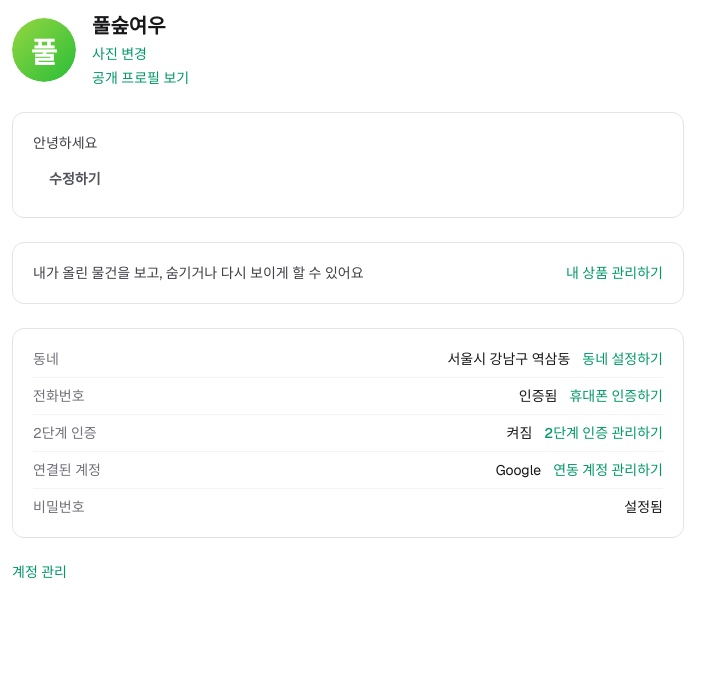
Test: MyPage — bio edit › edits and saves the bio via PATCH /api/profile/bio with the right body
Click the button "수정하기". click: (75, 179)
box: [33, 161, 116, 197]
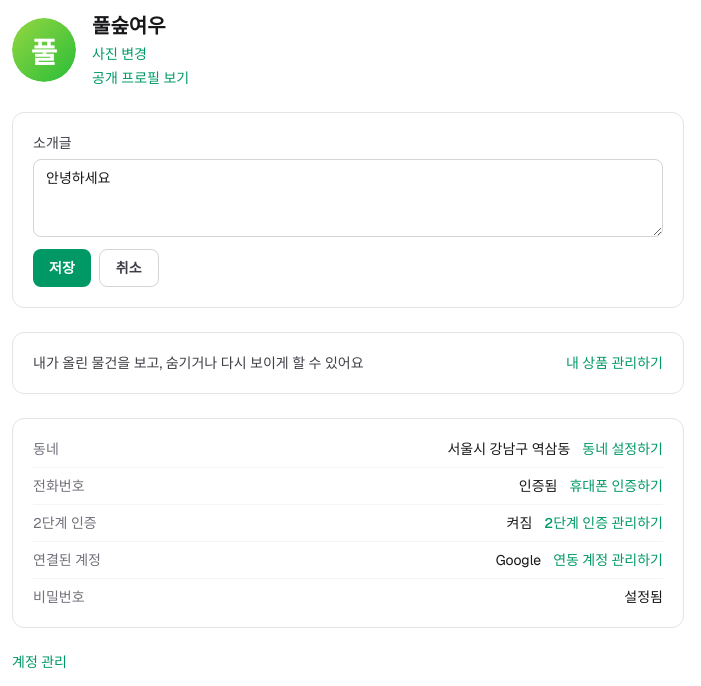
Replace the text in the text box labelled "소개글" with "새 소개글". click: (348, 198)
box: [33, 159, 663, 237]
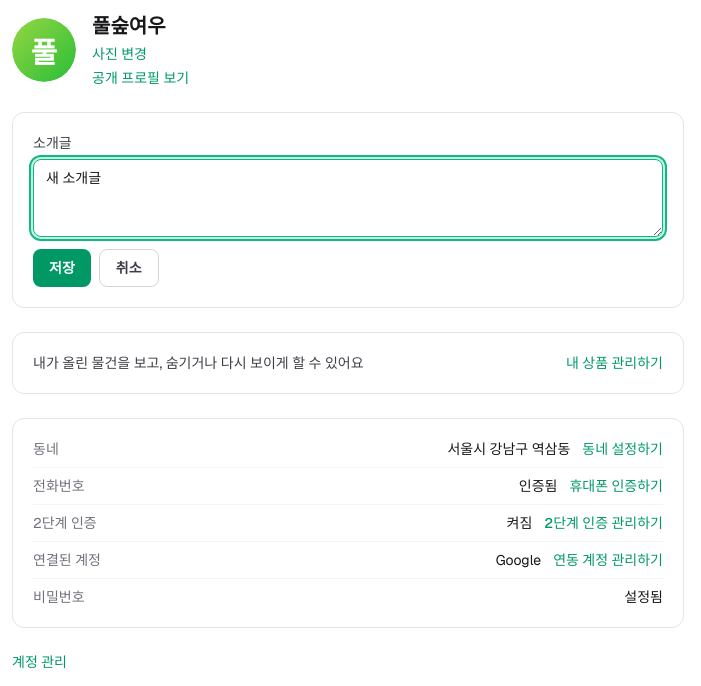
Click the button "저장". click: (62, 268)
box: [33, 249, 91, 287]
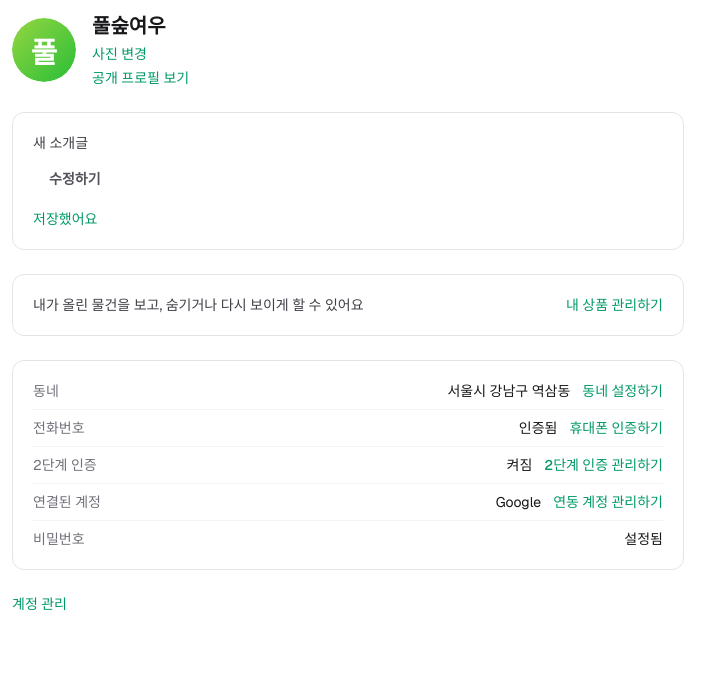
Now the text "저장했어요" is shown, box [33, 210, 97, 228]
Now the text "새 소개글" is shown, box [33, 134, 88, 152]
